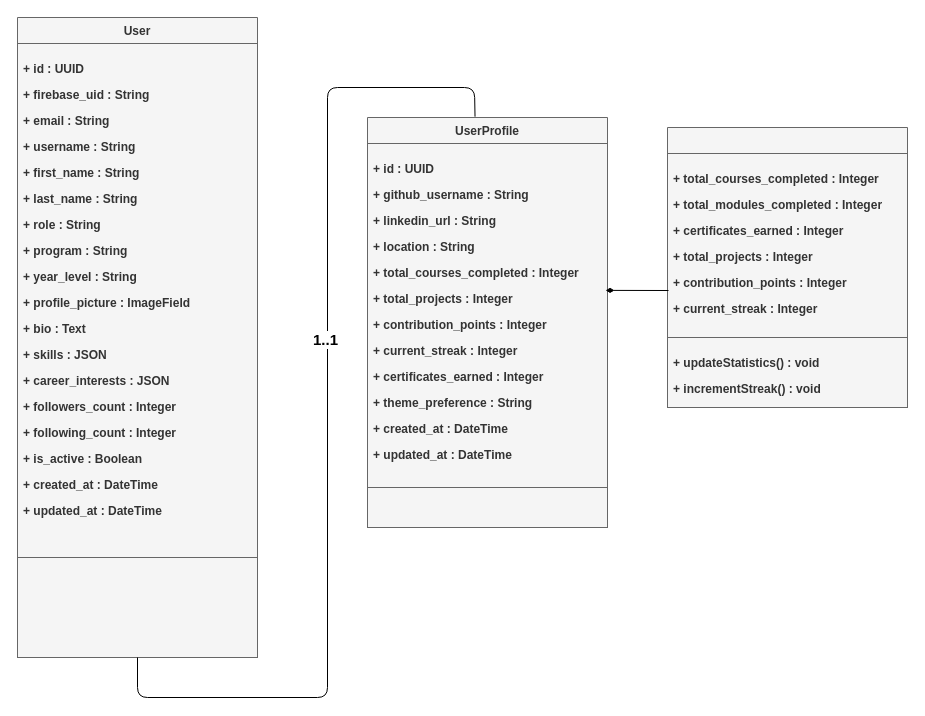
This 925x716 diagram has some shape labels left out. Each missing label, with the box of its shape:
+ updateStatistics(): (366, 486, 608, 528)
+login() +logout() +updateProfile(): (16, 556, 258, 658)
UserStats: (666, 126, 908, 408)
